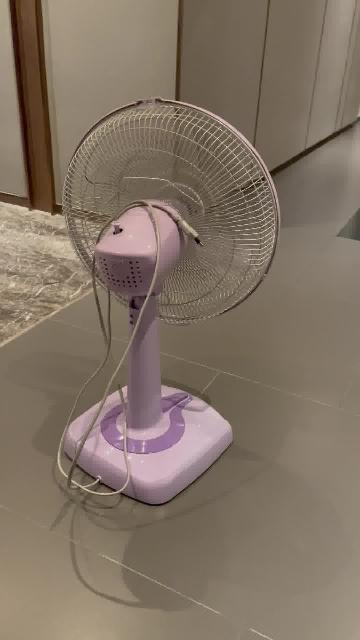Fan: (63, 98, 280, 507)
